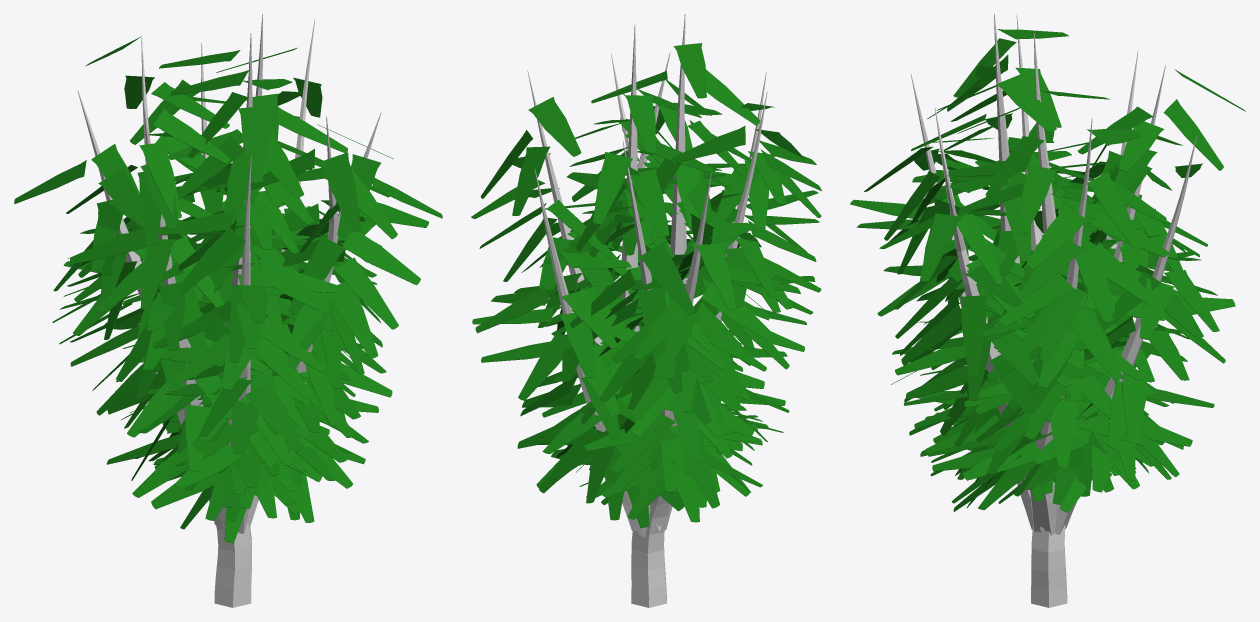
The model's file is Tree3.fbx.
3 views of the same model, side by side, from view 1: azimuth 30°, elevation 25°; view 2: azimuth 150°, elevation 25°; view 3: azimuth 270°, elevation 25° (orthographic). The views are drawn at different scales.
Parts seen in each view (by area): view 1: Cube.001, tree.001, tree; view 2: Cube.001, tree.001, tree; view 3: Cube.001, tree.001, tree.
Part boxes in pixels (<box>): Cube.001: <box>14,36,442,543</box>; tree.001: <box>77,14,381,446</box>; tree: <box>209,495,258,607</box>; Cube.001: <box>471,43,821,528</box>; tree.001: <box>527,14,767,432</box>; tree: <box>622,490,672,607</box>; Cube.001: <box>850,29,1245,512</box>; tree.001: <box>911,14,1196,450</box>; tree: <box>1017,469,1076,607</box>.
Bounding box in the file's own units: 151 × 275 × 170.
